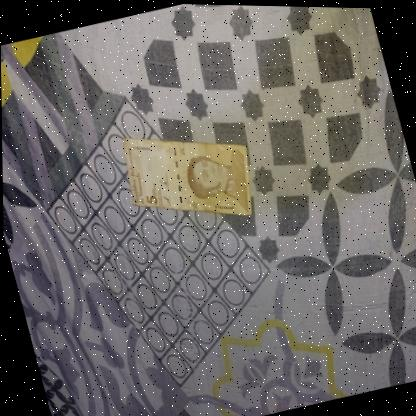five-front-vef: (113, 107, 263, 242)
